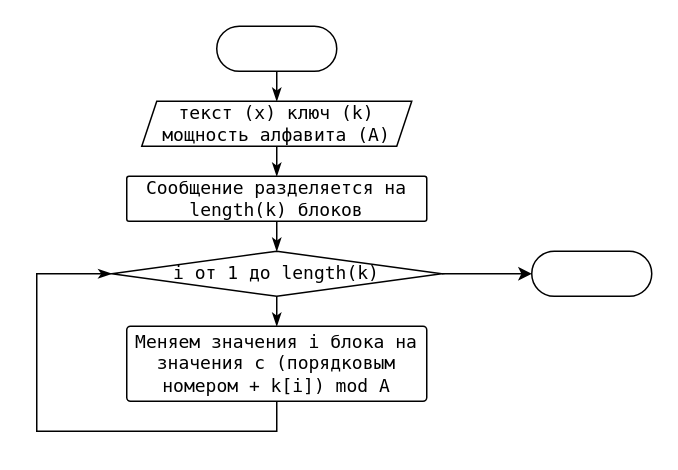
Some shapes in this 678 by 470 pixel diagram are drawn without their labels. The box of each missing label's shape, as (x1, y1, x2, y2) in pixels:
Конец: (530, 250, 652, 296)
Начало: (215, 25, 337, 71)
